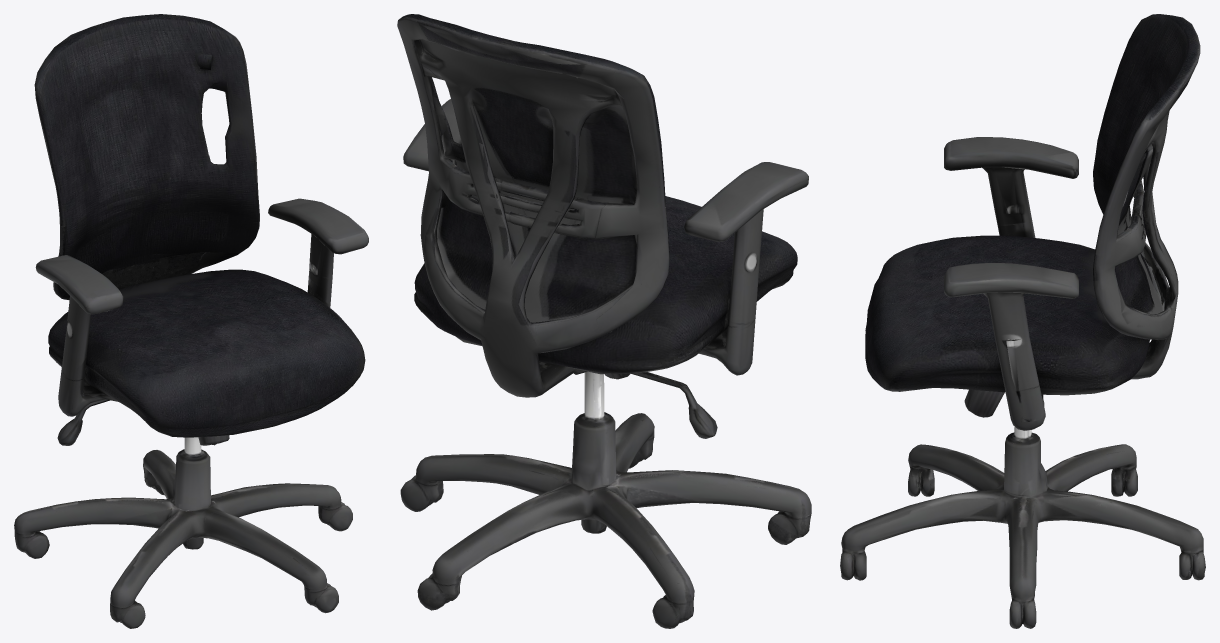
Rendered from office_chair_0124032324_texture_v2_20260927.glb.
3 renders of one model, left to right at view 1: azimuth 30°, elevation 25°; view 2: azimuth 150°, elevation 25°; view 3: azimuth 270°, elevation 25°, orthographic. The views are drawn at different scales.
Visible parts, largest first — view 1: Mesh_0; view 2: Mesh_0; view 3: Mesh_0.
Part boxes in pixels (box(x1,y1,x2,y2)): Mesh_0: box(14, 14, 368, 628); Mesh_0: box(397, 14, 811, 628); Mesh_0: box(840, 14, 1205, 628).
Bounding box in the file's own units: 0.5851 × 0.9017 × 0.5869.
Materials: 1 (1 with a texture image).
